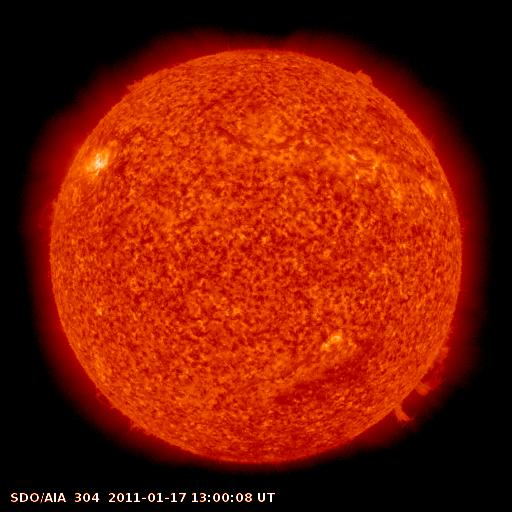prominence: (392, 334, 463, 427), (87, 382, 166, 446), (120, 59, 175, 97), (347, 57, 383, 97)
